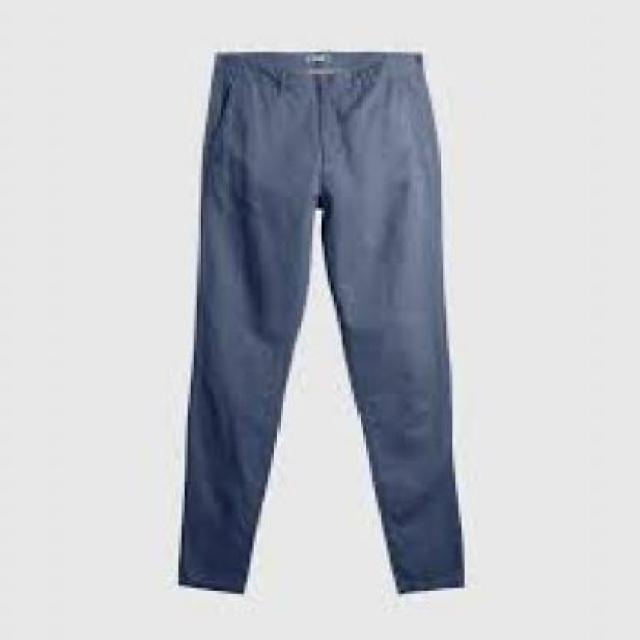pants: (177, 48, 468, 594)
